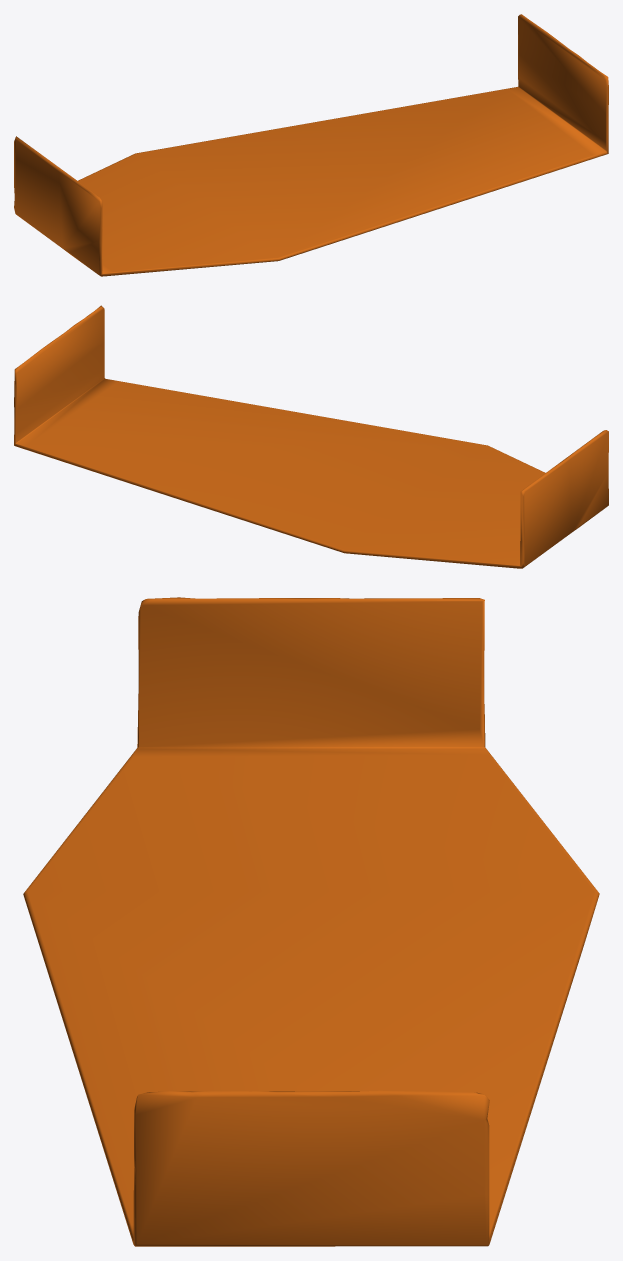
Rendered from TombstonesCoffinWood.005.fbx.
The picture shows the model from 3 angles, top to bottom: view 1: azimuth 30°, elevation 25°; view 2: azimuth 150°, elevation 25°; view 3: azimuth 270°, elevation 25°; orthographic projection. The views are drawn at different scales.
Parts seen in each view (by area): view 1: TombstonesCoffinWood.005; view 2: TombstonesCoffinWood.005; view 3: TombstonesCoffinWood.005.
Part boxes in pixels (x1,y1,x2,y2): TombstonesCoffinWood.005: (14,14,608,276); TombstonesCoffinWood.005: (14,305,608,568); TombstonesCoffinWood.005: (23,597,599,1246).
Bounding box in the file's own units: 684 × 99.88 × 336.
